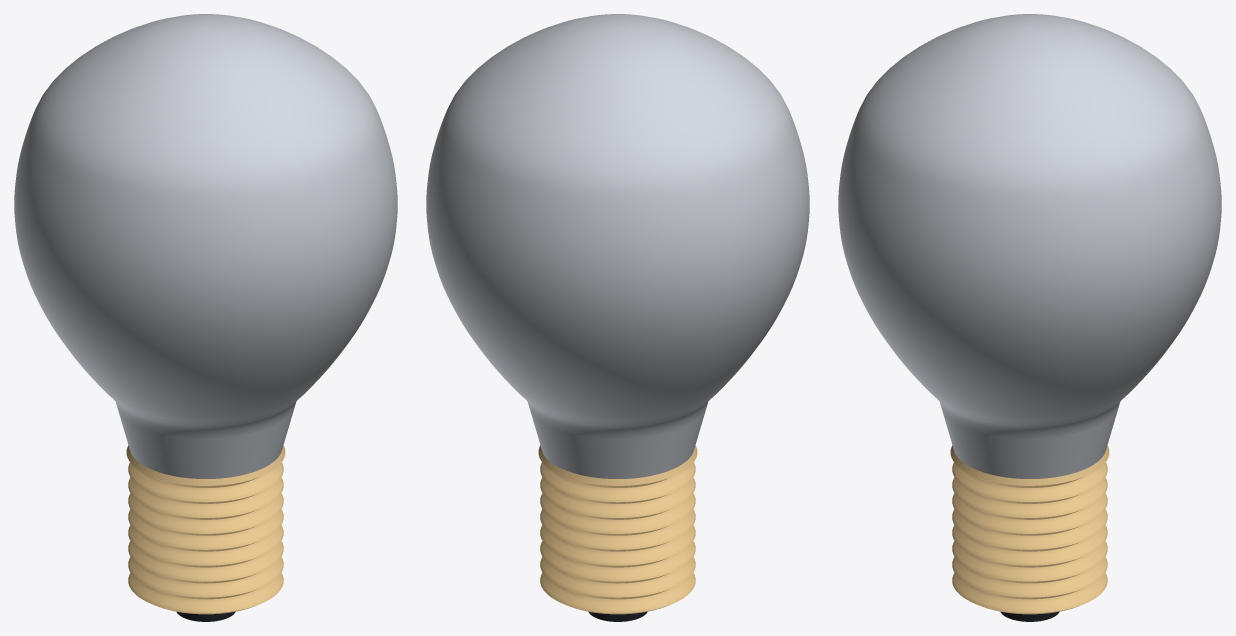
The model's file is bulb.glb.
3 views of the same model, side by side, from view 1: azimuth 30°, elevation 25°; view 2: azimuth 150°, elevation 25°; view 3: azimuth 270°, elevation 25° (orthographic).
Parts seen in each view (by area): view 1: bulb, base; view 2: bulb, base; view 3: bulb, base.
Boxes of the visible parts, x1,y1,x2,y2 form: bulb: [14, 14, 397, 478]; base: [126, 445, 285, 614]; bulb: [426, 14, 809, 478]; base: [538, 445, 697, 614]; bulb: [838, 14, 1221, 478]; base: [950, 445, 1109, 614].
Size of the model in its own units: 0.8202 by 1.37 by 0.8202.
